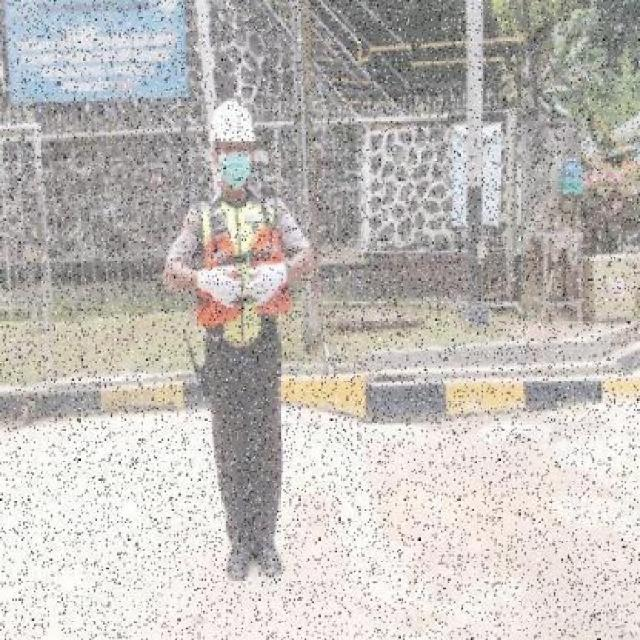Boots: (252, 544, 285, 581), (223, 543, 254, 582)
Gloves: (244, 260, 288, 308), (197, 264, 241, 311)
Helmet: (211, 98, 257, 145)
Mask: (216, 153, 252, 189)
Vest: (192, 226, 292, 329)
